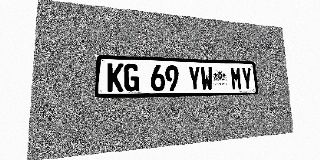6: (151, 64, 165, 91)
9: (165, 65, 179, 91)
G: (124, 64, 139, 92)
K: (107, 63, 123, 92)
M: (230, 67, 242, 90)
W: (200, 66, 213, 91)
Y: (188, 66, 201, 91), (241, 67, 253, 90)
